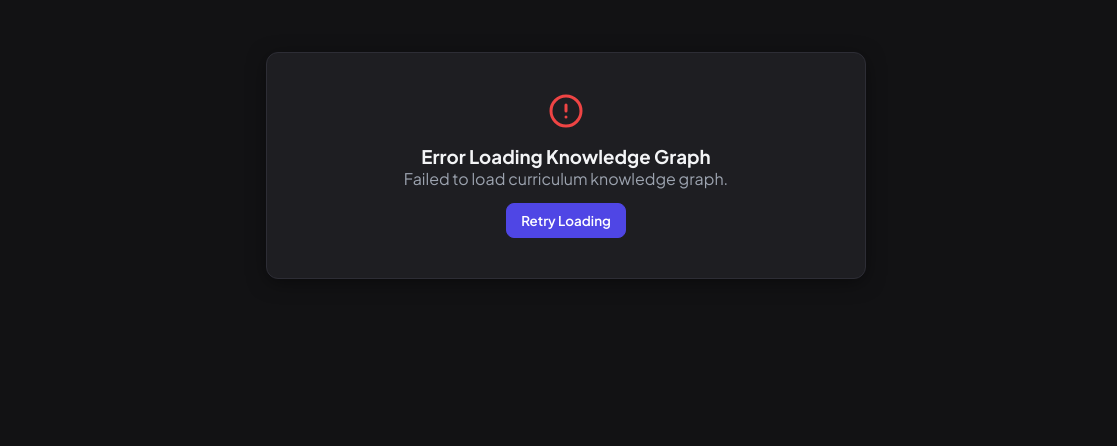
Test case: knowledge graph branch interactions › recovers after a rejected request when retry succeeds
Expected: the text "Failed to load curriculum knowledge graph." is shown, [404, 168, 728, 189]
Click the button "Retry Loading" at (566, 220), box [506, 203, 626, 238]
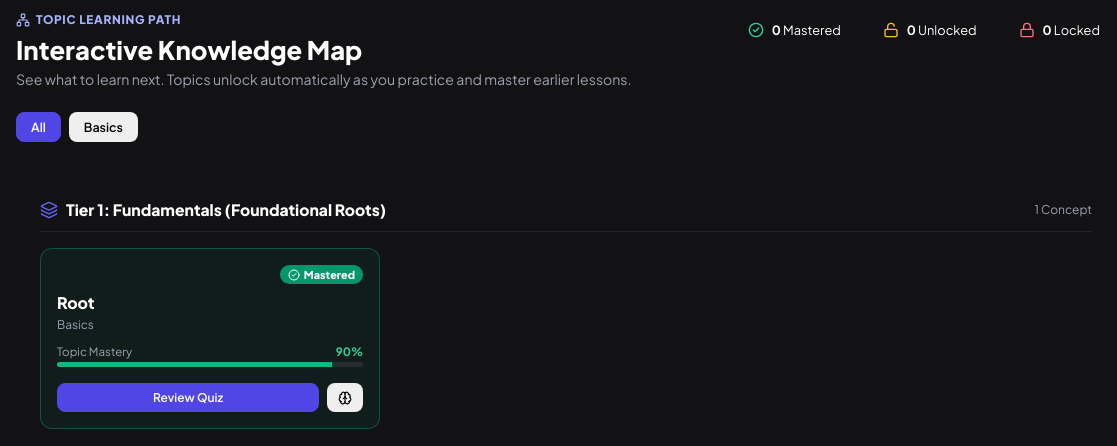
Now the heading "Root" is shown, box [57, 292, 95, 313]
Now the heading "Error Loading Knowledge Graph" is gone
